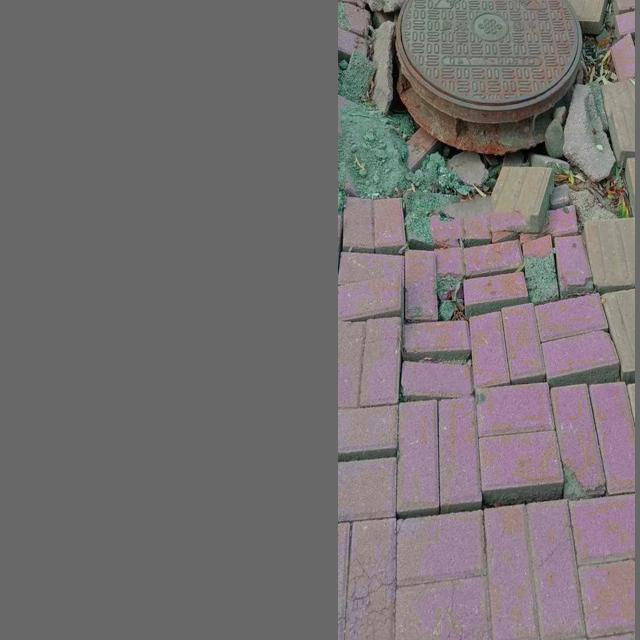circle: (342, 0, 629, 332)
